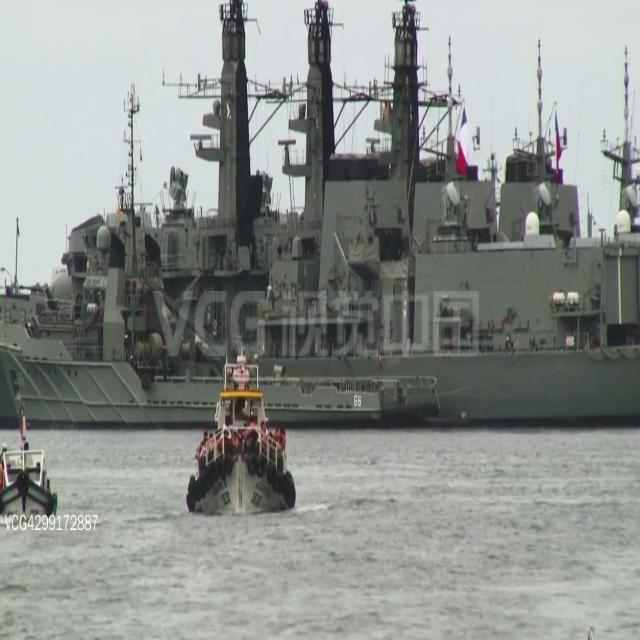houseboat: (182, 352, 292, 516), (0, 396, 58, 526)
navalvessels: (0, 2, 640, 435)
